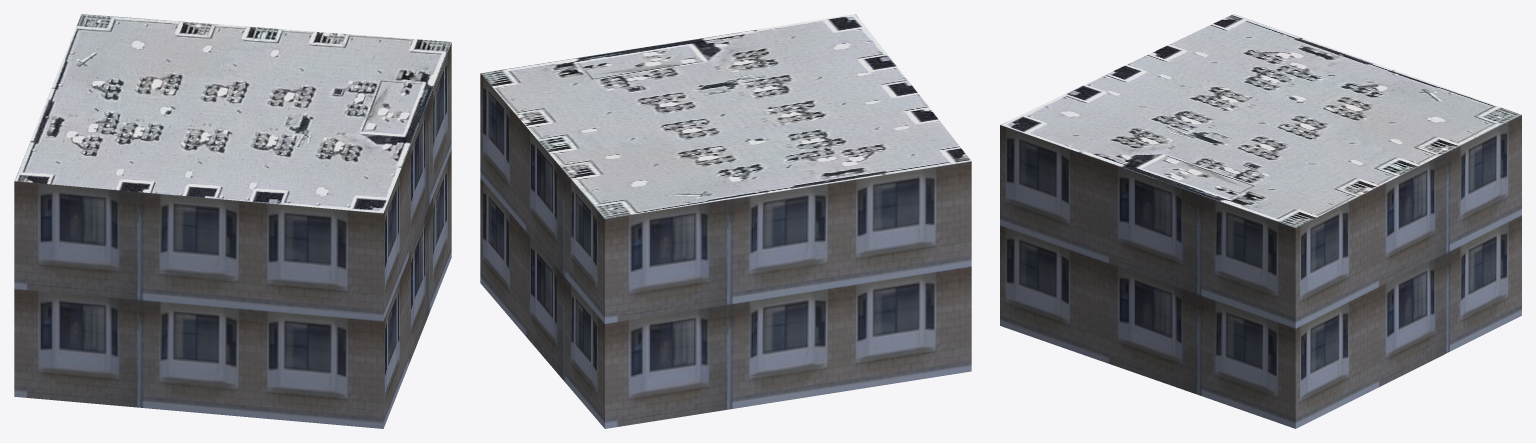
The model's file is ResTex__1175.fbx.
3 renders of one model, left to right at view 1: azimuth 30°, elevation 25°; view 2: azimuth 150°, elevation 25°; view 3: azimuth 270°, elevation 25°, orthographic. The views are drawn at different scales.
Parts seen in each view (by area): view 1: CityEngineMaterial_3_m, CityEngineMaterial_4_m; view 2: CityEngineMaterial_3_m, CityEngineMaterial_4_m; view 3: CityEngineMaterial_3_m, CityEngineMaterial_4_m.
Part boxes in pixels (bbox=[...]): CityEngineMaterial_3_m: bbox=[14, 42, 451, 428]; CityEngineMaterial_4_m: bbox=[14, 14, 451, 213]; CityEngineMaterial_3_m: bbox=[480, 73, 971, 428]; CityEngineMaterial_4_m: bbox=[481, 14, 970, 218]; CityEngineMaterial_3_m: bbox=[1000, 115, 1521, 428]; CityEngineMaterial_4_m: bbox=[1000, 14, 1521, 227].
Size of the model in its own units: 13.71 by 6 by 14.12.
2 materials, 2 textured.
